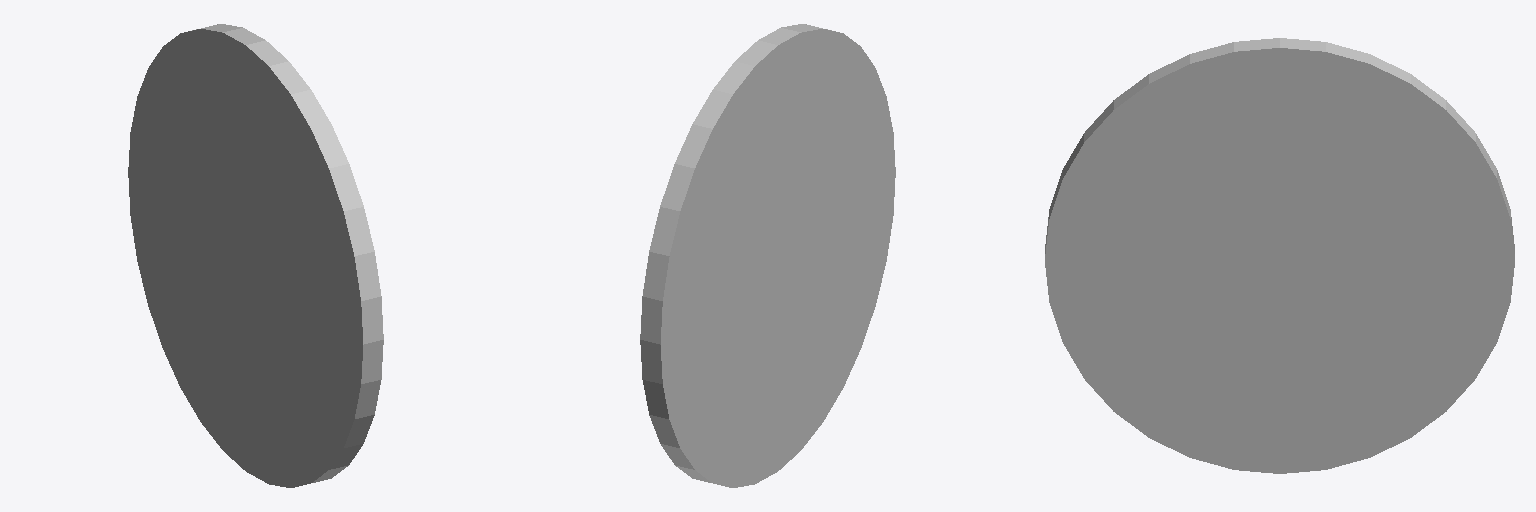
Rendered from RingCenter.obj.
3 renders of one model, left to right at view 1: azimuth 30°, elevation 25°; view 2: azimuth 150°, elevation 25°; view 3: azimuth 270°, elevation 25°, orthographic.
Parts seen in each view (by area): view 1: Ring_center_Cylinder.001; view 2: Ring_center_Cylinder.001; view 3: Ring_center_Cylinder.001.
Boxes of the visible parts, box(x1,y1,x2,y2) form: Ring_center_Cylinder.001: box(128, 24, 383, 487); Ring_center_Cylinder.001: box(640, 24, 895, 487); Ring_center_Cylinder.001: box(1045, 38, 1514, 473).
Size of the model in its own units: 0.3142 by 6.29 by 6.29.